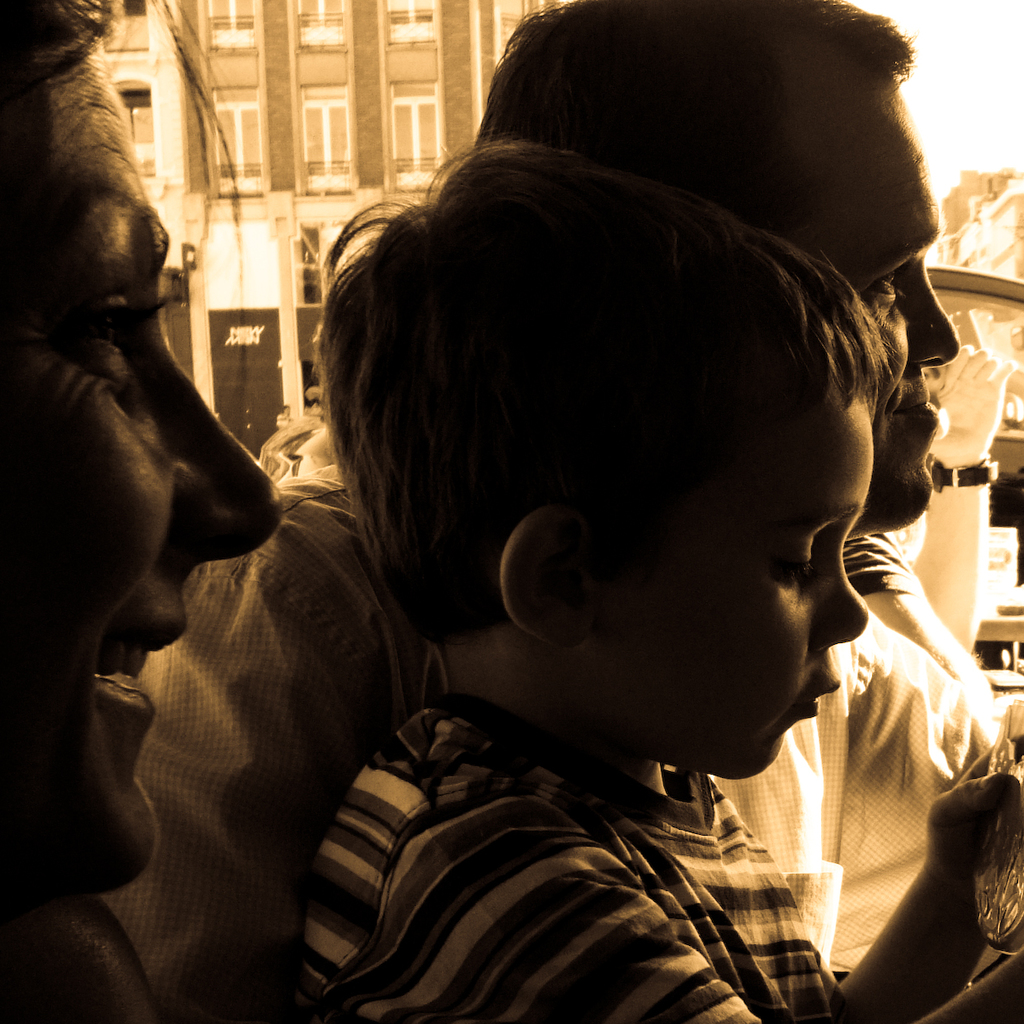Person: (0, 0, 283, 1017)
